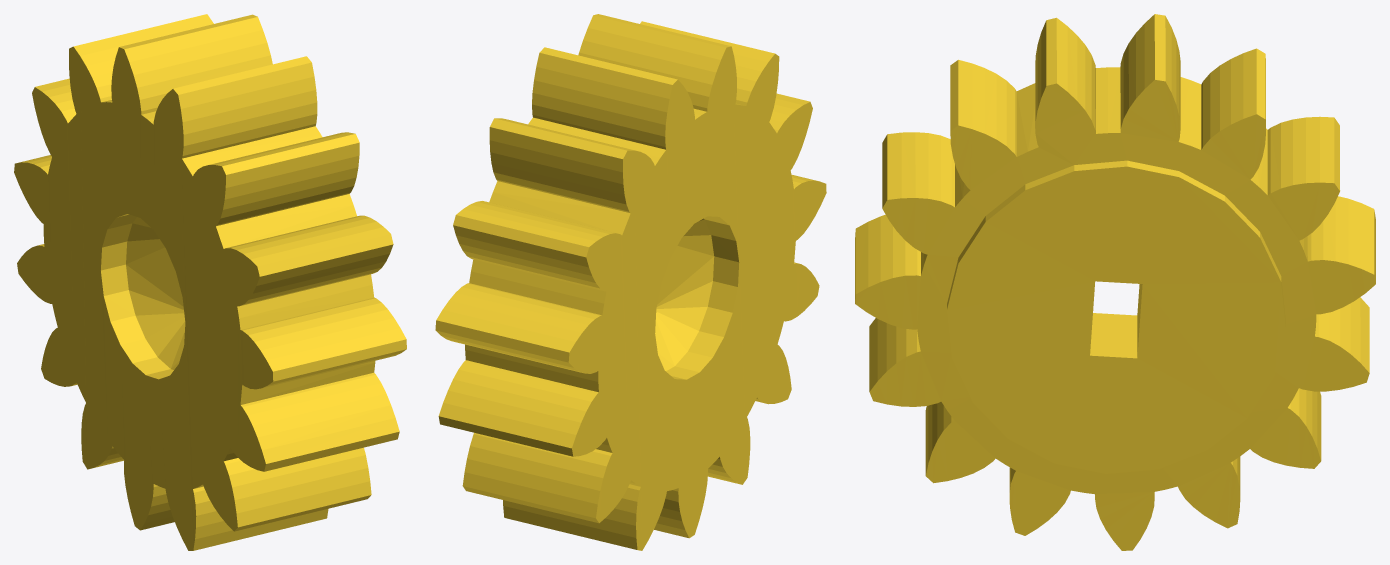
The model's file is left_shoulder_z_link_visual_10.obj.balanced.glb.
3 renders of one model, left to right at view 1: azimuth 30°, elevation 25°; view 2: azimuth 150°, elevation 25°; view 3: azimuth 270°, elevation 25°, orthographic.
Size of the model in its own units: 0.0675 by 0.2062 by 0.2064.
